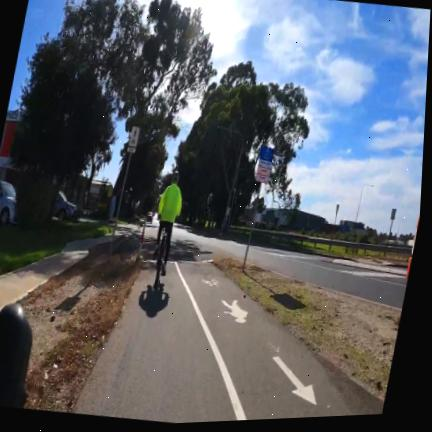Bike_Lane: (71, 259, 384, 423)
Bike_Sign: (255, 145, 274, 182), (127, 126, 139, 152)
